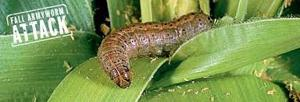fallarmy_worm: (92, 11, 223, 87)
